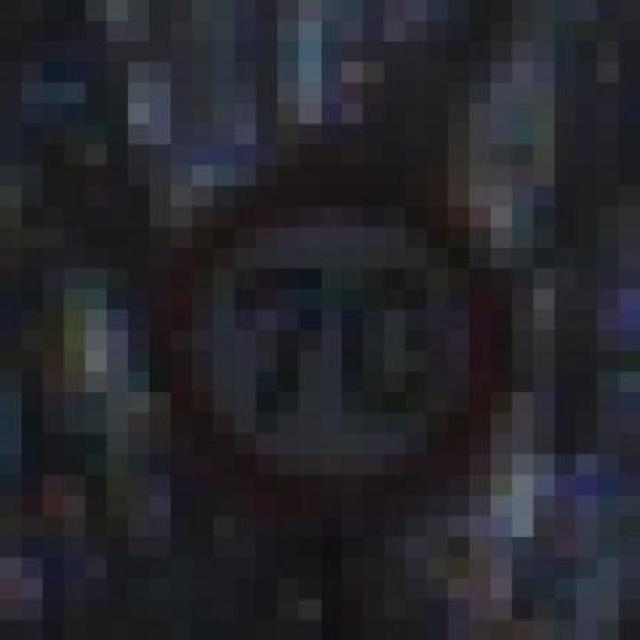forb_speed_over_70: (166, 178, 512, 507)
